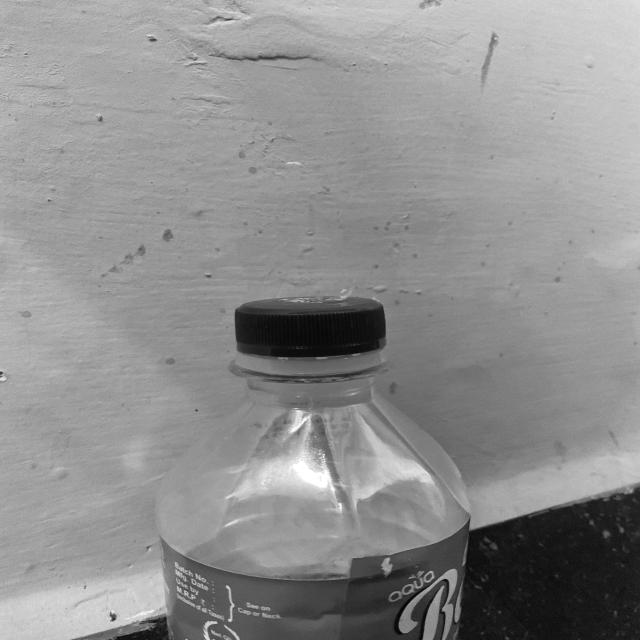Good-cap-Df0S: (223, 293, 400, 381)
